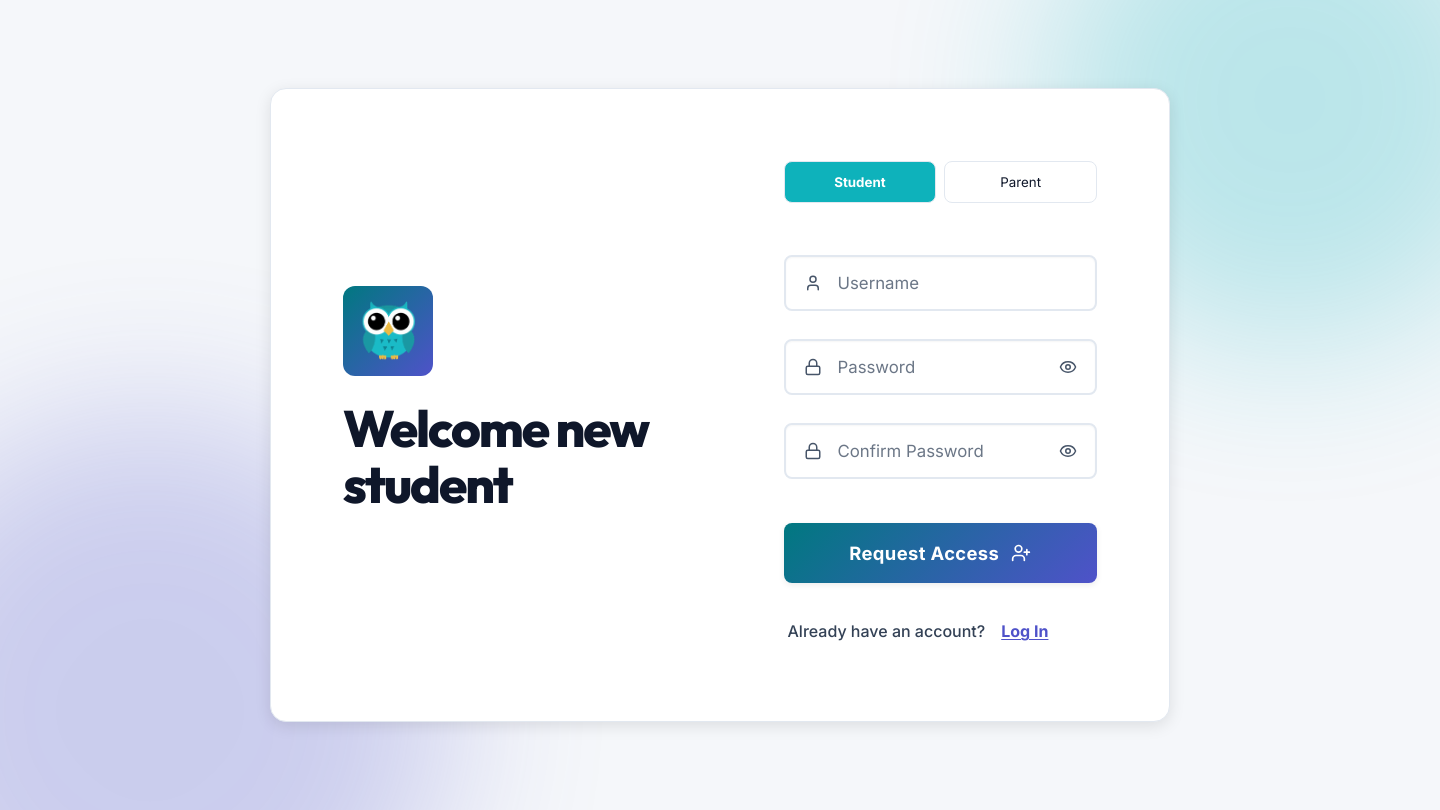
Test: Signup Component › signs up student successfully
Type "student123" into the field with placeholder "Username" at (940, 283), box [784,255,1097,311]
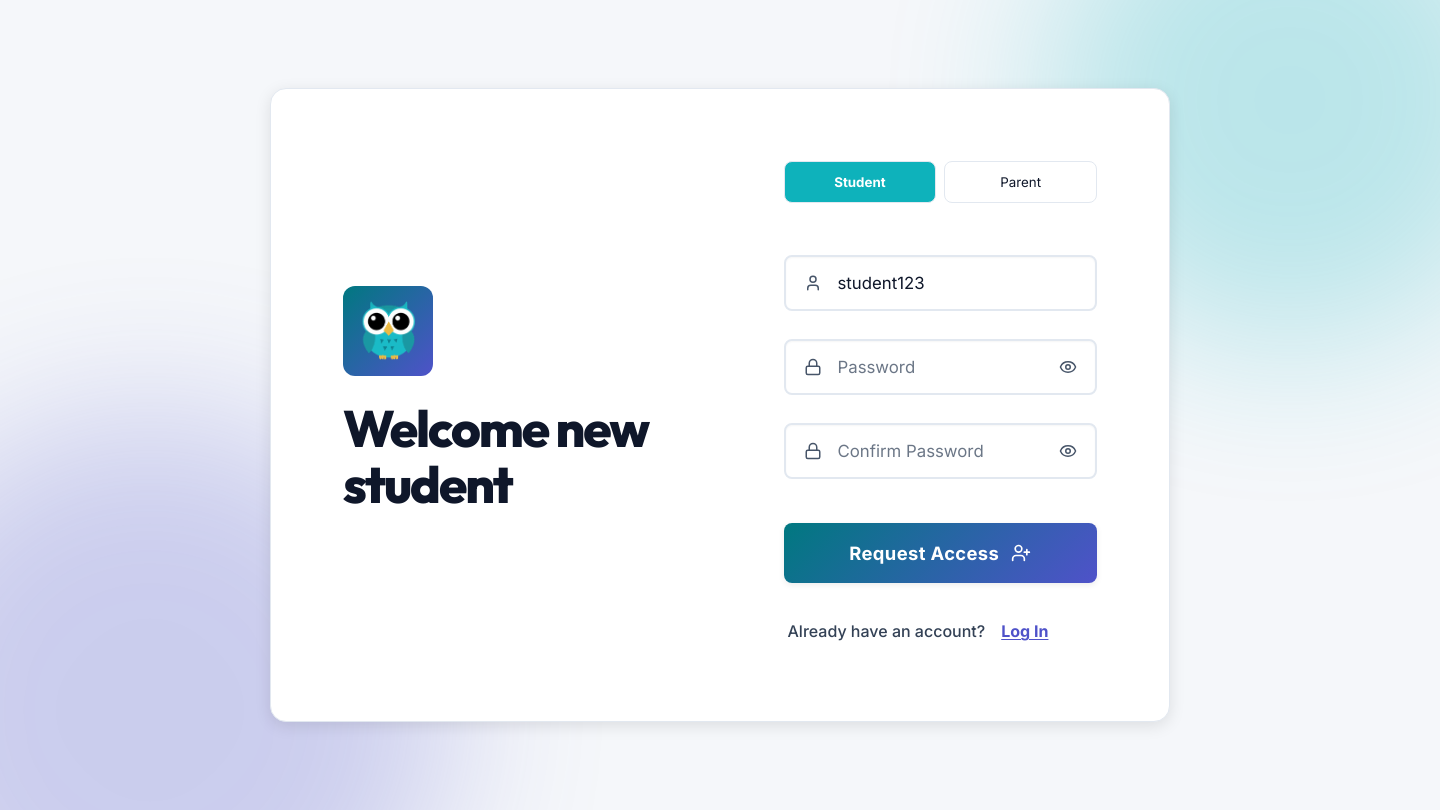
Type "password123" into the password field with placeholder "Password" at (940, 367), box [784,339,1097,395]
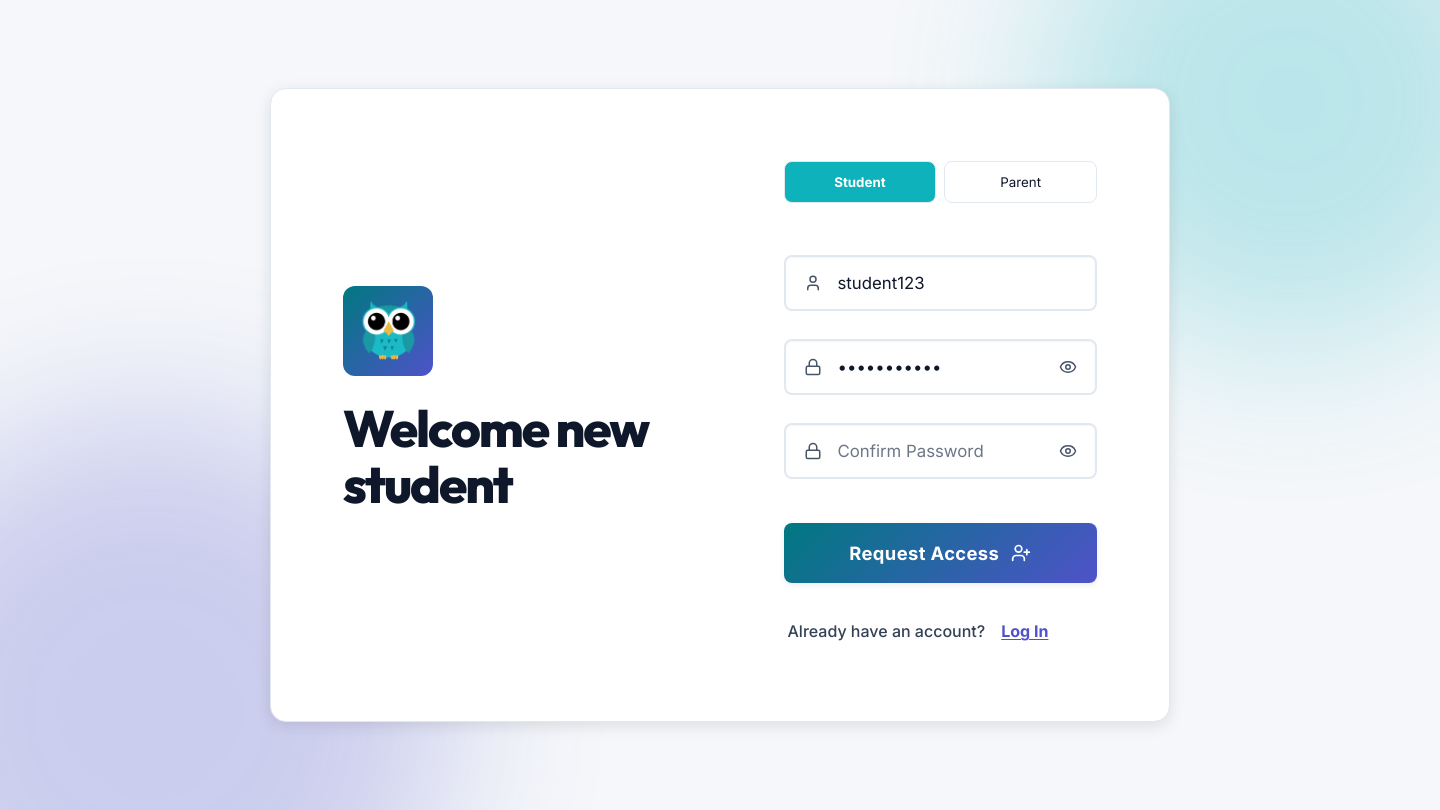
Type "password123" into the password field with placeholder "Confirm Password" at (940, 451), box [784,423,1097,479]
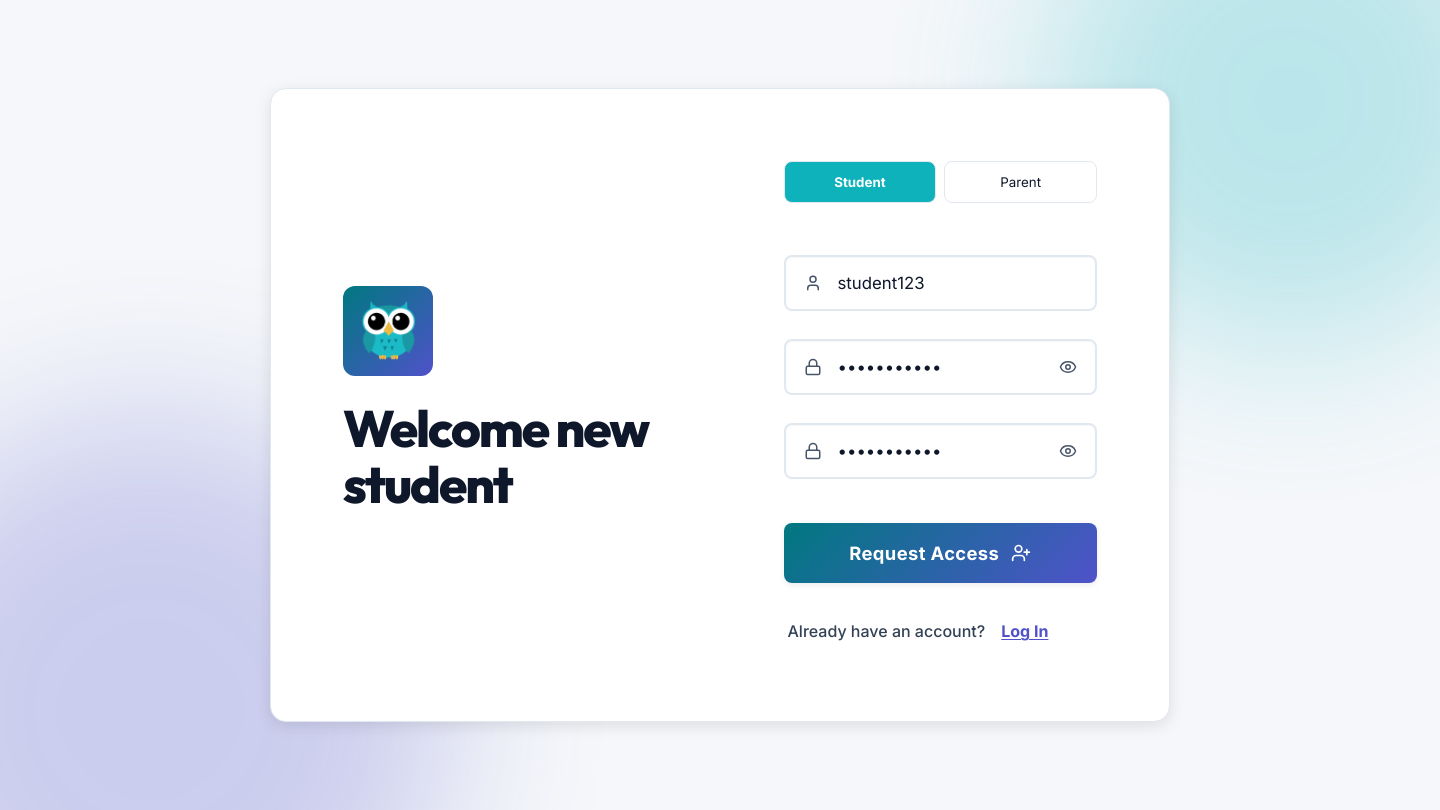
Click the button "Request Access" at (940, 553), box [784,523,1097,583]
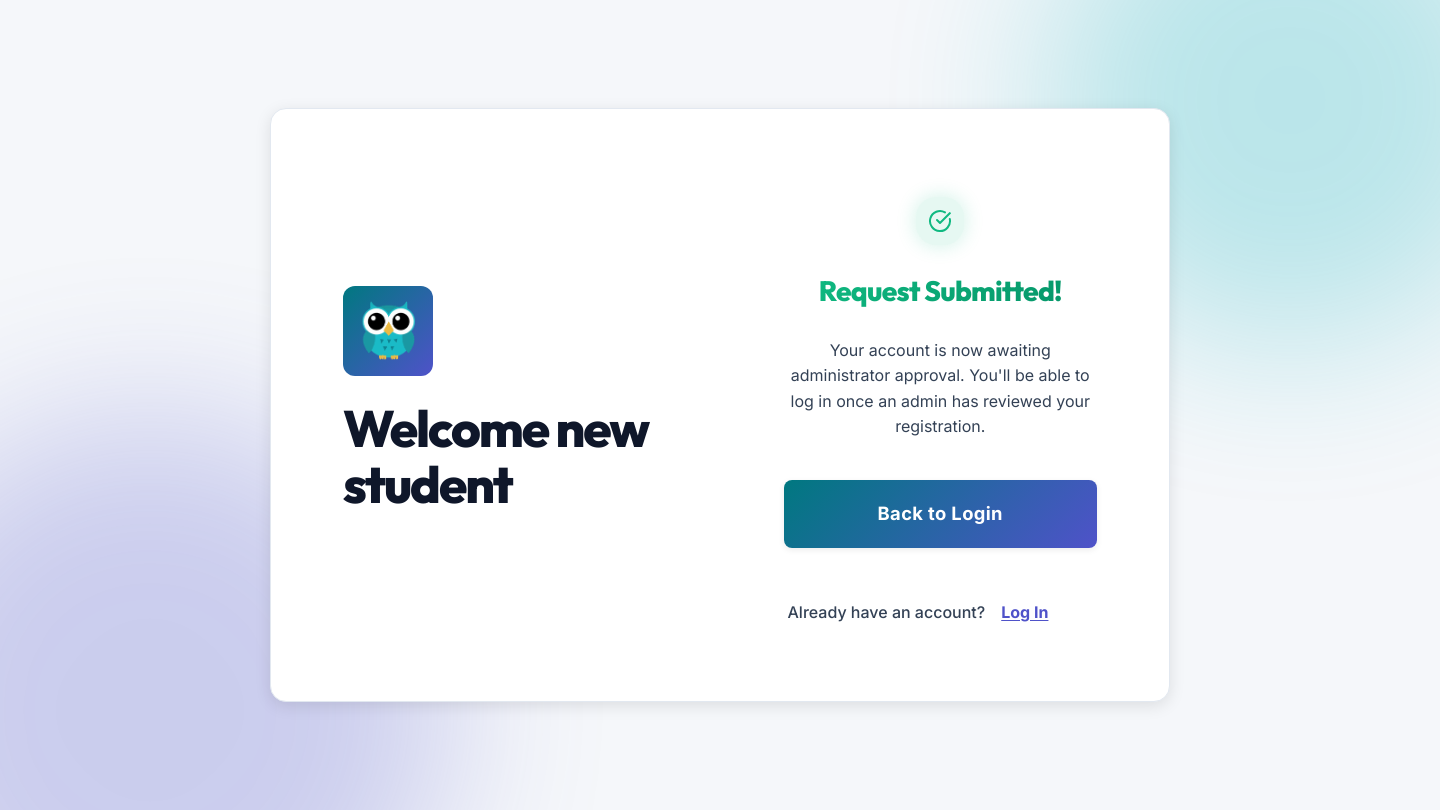
Expected: the heading "Request Submitted!" is shown, [819,269,1062,314]
